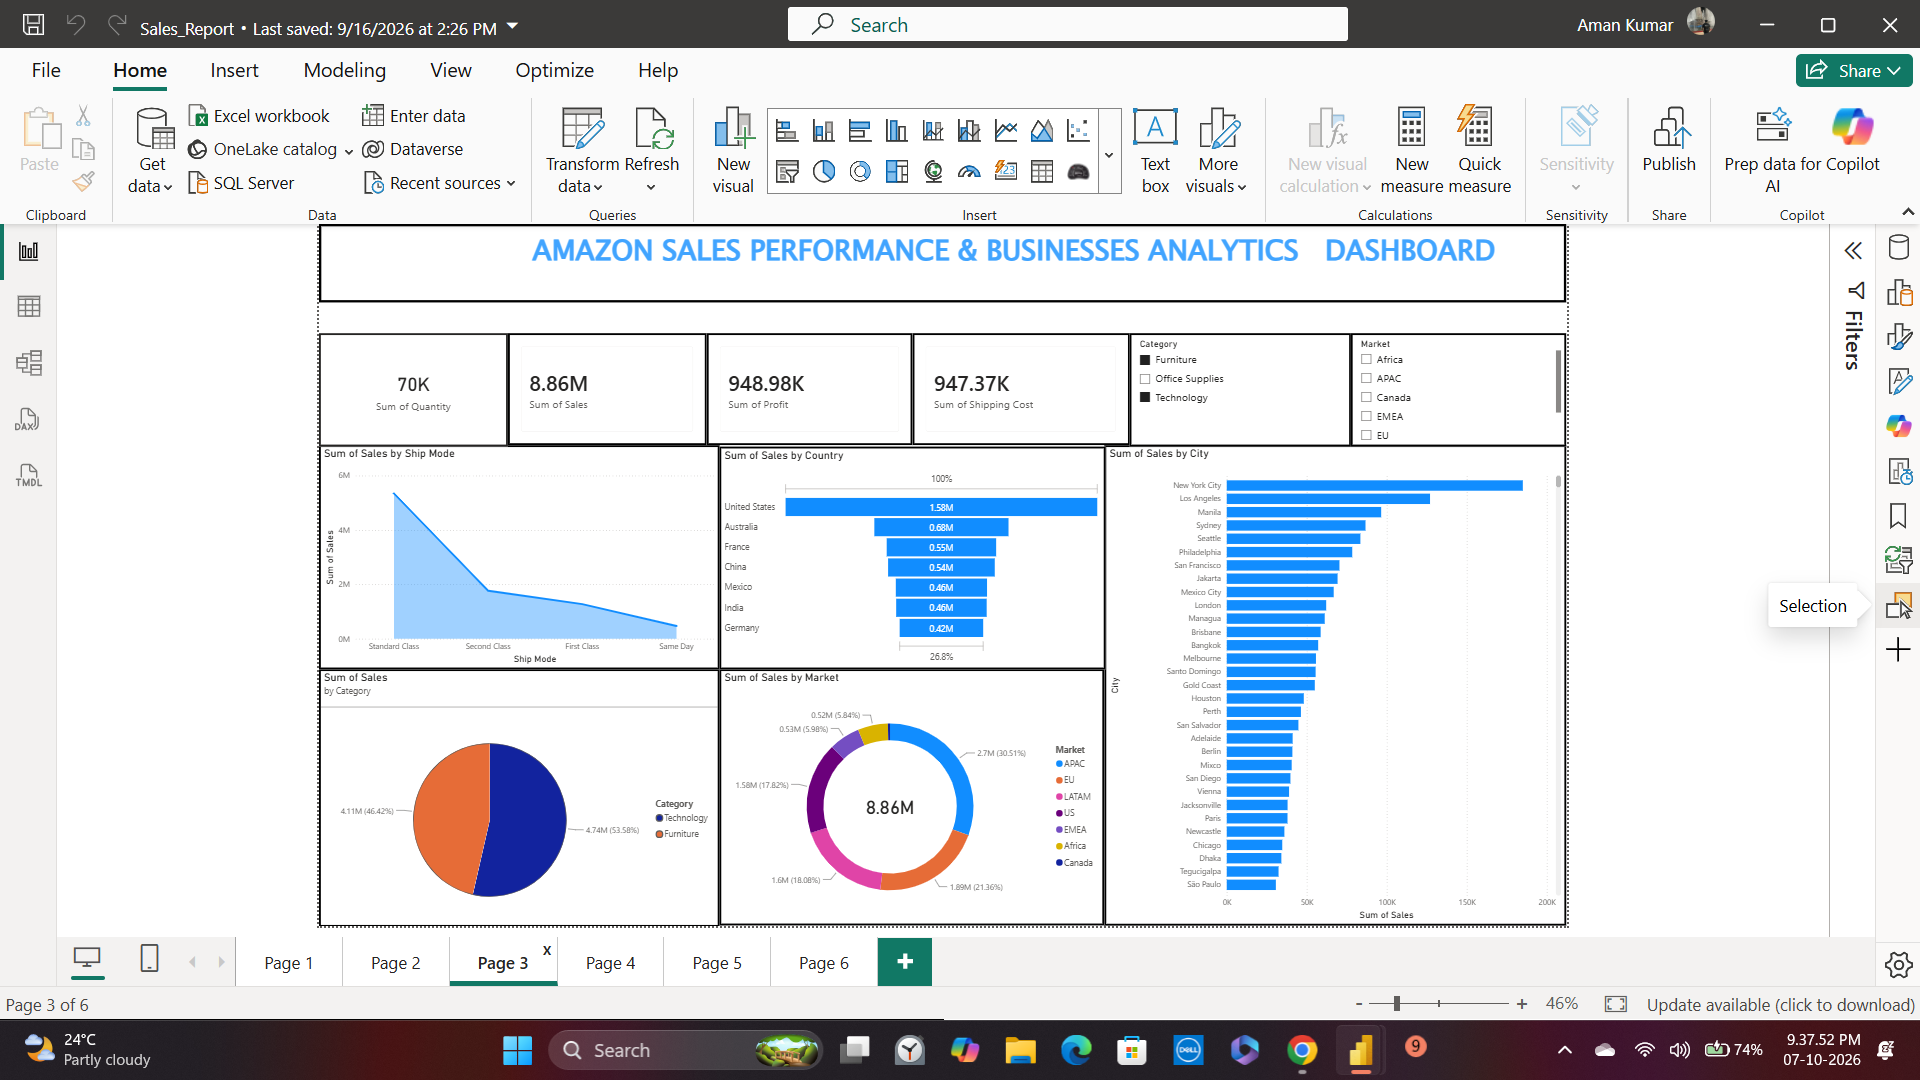

The page's visual inventory and layout, read from the dashboard file:
{"tool":"powerbi","page":{"name":"Page 3","canvas":[1920,1080],"ordinal":2},"visuals":[{"type":"pieChart","fields":{"Category":["Orders.Category"],"Y":["Sum(Orders.Sales)"]},"box":[0,685.1,616.2,396.4],"z":0},{"type":"donutChart","fields":{"Category":["Orders.Market"],"Y":["Sum(Orders.Sales)"]},"box":[616.2,685.1,592.5,394.3],"z":1000},{"type":"barChart","fields":{"Category":["Orders.City"],"Y":["Sum(Orders.Sales)"]},"box":[1208.6,340.4,711,739],"z":2000},{"type":"areaChart","fields":{"Category":["Orders.Ship Mode"],"Y":["Sum(Orders.Sales)"]},"box":[0,340.4,616.2,344.7],"z":3000},{"type":"funnel","fields":{"Category":["Orders.Country"],"Y":["Sum(Orders.Sales)"]},"box":[616.2,342.6,594.6,342.6],"z":4000},{"type":"card","fields":{"Values":["Sum(Orders.Quantity)"]},"box":[0,168,290.8,174.5],"z":5000},{"type":"cardVisual","fields":{"Data":["Sum(Orders.Sales)"]},"box":[290.8,168,305.9,172.4],"z":6000},{"type":"cardVisual","fields":{"Data":["Sum(Orders.Profit)"]},"box":[596.8,168,316.7,172.4],"z":7000},{"type":"cardVisual","fields":{"Data":["Sum(Orders.Shipping Cost)"]},"box":[913.5,168,333.9,172.4],"z":8000},{"type":"slicer","fields":{"Values":["Orders.Category"]},"box":[1247.4,168,340.4,174.5],"z":9000},{"type":"slicer","fields":{"Values":["Orders.Market"]},"box":[1587.8,168,331.8,174.5],"z":10000},{"type":"textbox","box":[0,0,1919.6,120.6],"z":11000}]}

Visuals, with their boxes on the page's 1920x1080 design canvas (x1, y1, x2, y2). These are canvas units, not pixel positions in the 1920x1080 screenshot, which may show the page scaled, cropped or inside an application window:
pieChart - Orders.Category x Sum(Orders.Sales): (0, 685, 616, 1082)
donutChart - Orders.Market x Sum(Orders.Sales): (616, 685, 1209, 1079)
barChart - Orders.City x Sum(Orders.Sales): (1209, 340, 1920, 1079)
areaChart - Orders.Ship Mode x Sum(Orders.Sales): (0, 340, 616, 685)
funnel - Orders.Country x Sum(Orders.Sales): (616, 343, 1211, 685)
card - Sum(Orders.Quantity): (0, 168, 291, 342)
cardVisual - Sum(Orders.Sales): (291, 168, 597, 340)
cardVisual - Sum(Orders.Profit): (597, 168, 914, 340)
cardVisual - Sum(Orders.Shipping Cost): (914, 168, 1247, 340)
slicer - Orders.Category: (1247, 168, 1588, 342)
slicer - Orders.Market: (1588, 168, 1920, 342)
textbox: (0, 0, 1920, 121)
